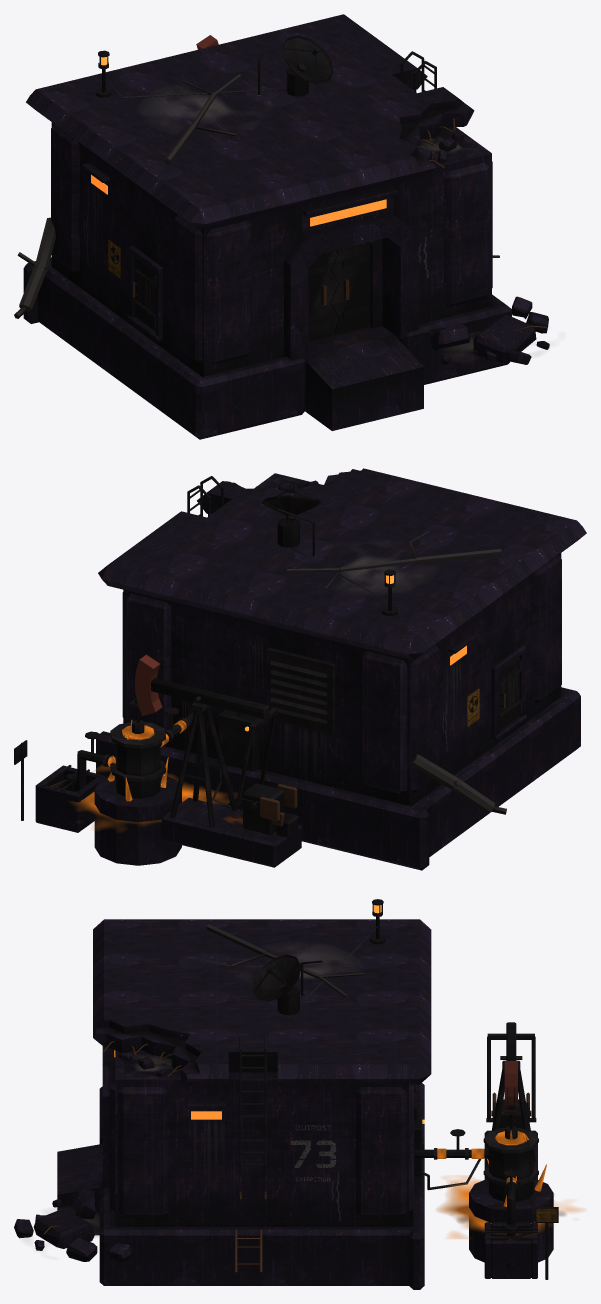
File: outpost73_bunker.glb
The picture shows the model from 3 angles, top to bottom: view 1: azimuth 30°, elevation 25°; view 2: azimuth 150°, elevation 25°; view 3: azimuth 270°, elevation 25°; orthographic projection. The views are drawn at different scales.
Visible parts, largest first — view 1: bunker_shell, door_right, bunker_decals, door_left; view 2: bunker_shell, pump_beam, bunker_decals, bunker_liquid, pump_crank, pump_pitman; view 3: bunker_shell, bunker_decals, bunker_liquid, pump_beam, pump_pitman.
Part boxes in pixels (<box>): bunker_shell: <box>14,14,549,439</box>; door_right: <box>330,242,370,335</box>; bunker_decals: <box>83,89,474,357</box>; door_left: <box>308,250,338,341</box>; bunker_shell: <box>14,468,586,870</box>; pump_beam: <box>135,654,277,731</box>; bunker_decals: <box>76,487,513,833</box>; bunker_liquid: <box>71,719,236,829</box>; pump_crank: <box>235,784,297,821</box>; pump_pitman: <box>236,715,276,804</box>; bunker_shell: <box>14,899,558,1289</box>; bunker_decals: <box>59,945,565,1236</box>; bunker_liquid: <box>437,1130,582,1238</box>; pump_beam: <box>487,1022,534,1114</box>; pump_pitman: <box>487,1036,535,1120</box>.
Size of what is drawn, in the model's own units: 10.64 by 6.76 by 12.87.
Materials: 29 (21 with a texture image).
